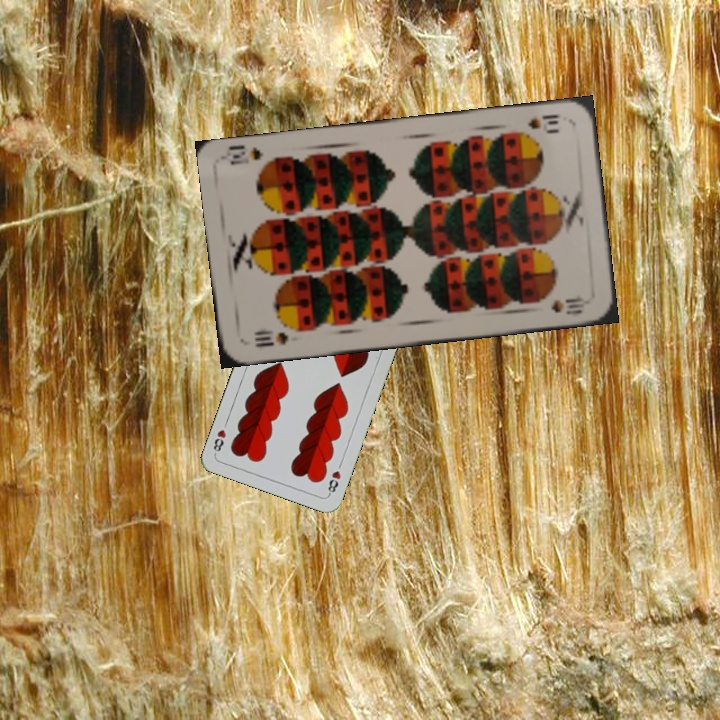H8: (324, 466, 344, 498)
S10: (250, 327, 291, 350), (524, 110, 563, 131)
